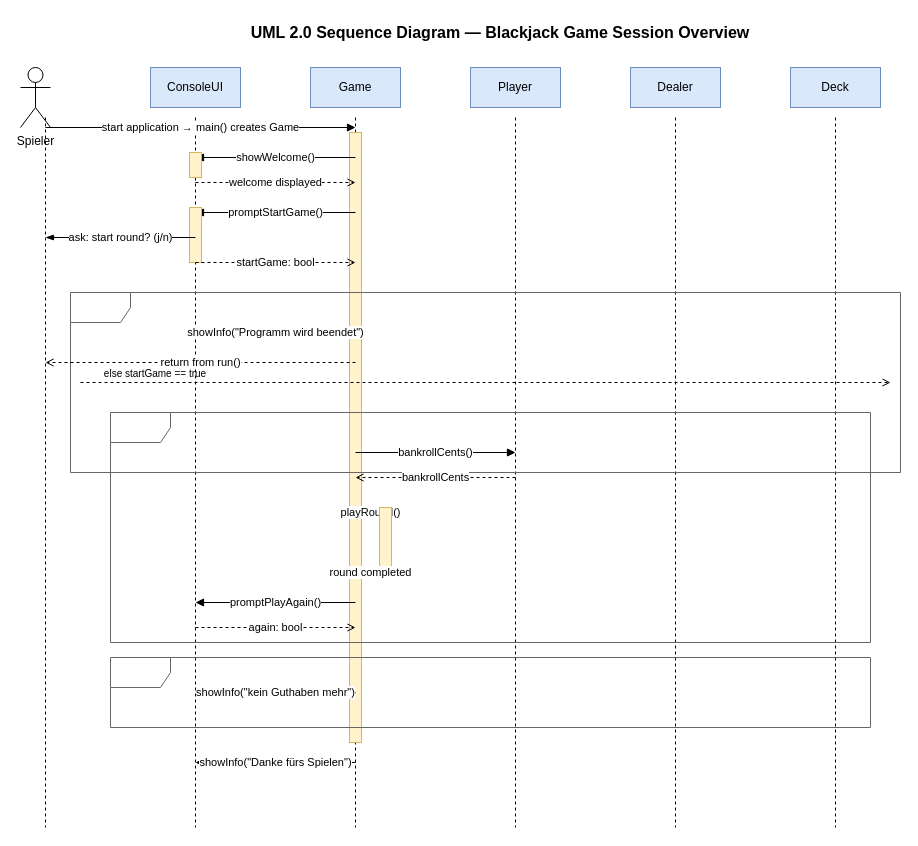
Image size: 918x846. Some labels were removed from this diagram. Here are the shapes that lost their labels. From the top down, the box of each, then its label:
(70, 292, 900, 472): alt [startGame == false / true]
(110, 412, 870, 642): loop [again && bankrollCents > 0]
(110, 656, 870, 728): opt [bankrollCents <= 0]
